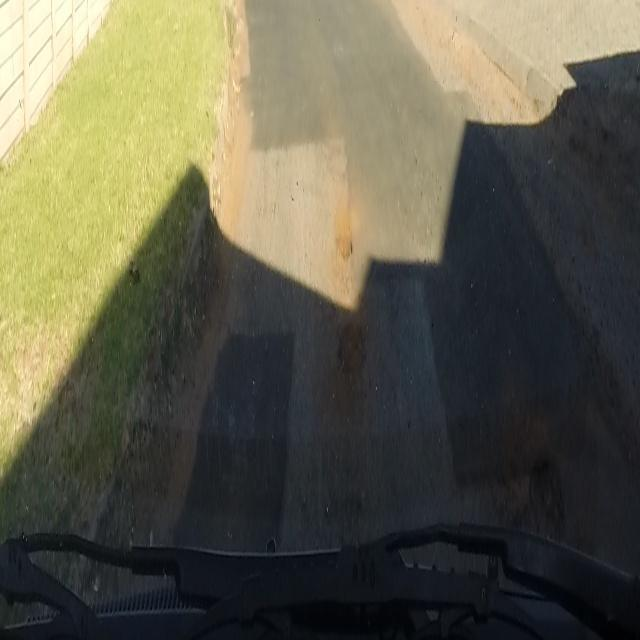pothole: (527, 454, 566, 512), (336, 310, 364, 380), (334, 226, 352, 266)
